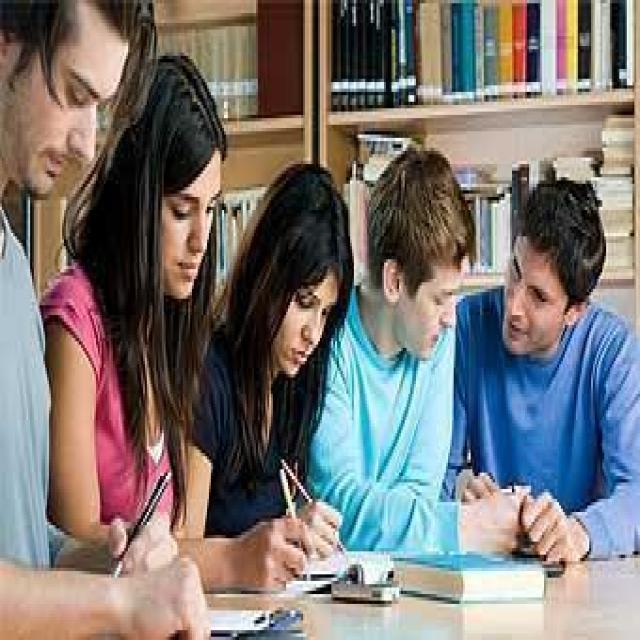person: (52, 53, 262, 584), (0, 0, 137, 627), (320, 148, 512, 561), (452, 177, 638, 548), (207, 155, 341, 574)
